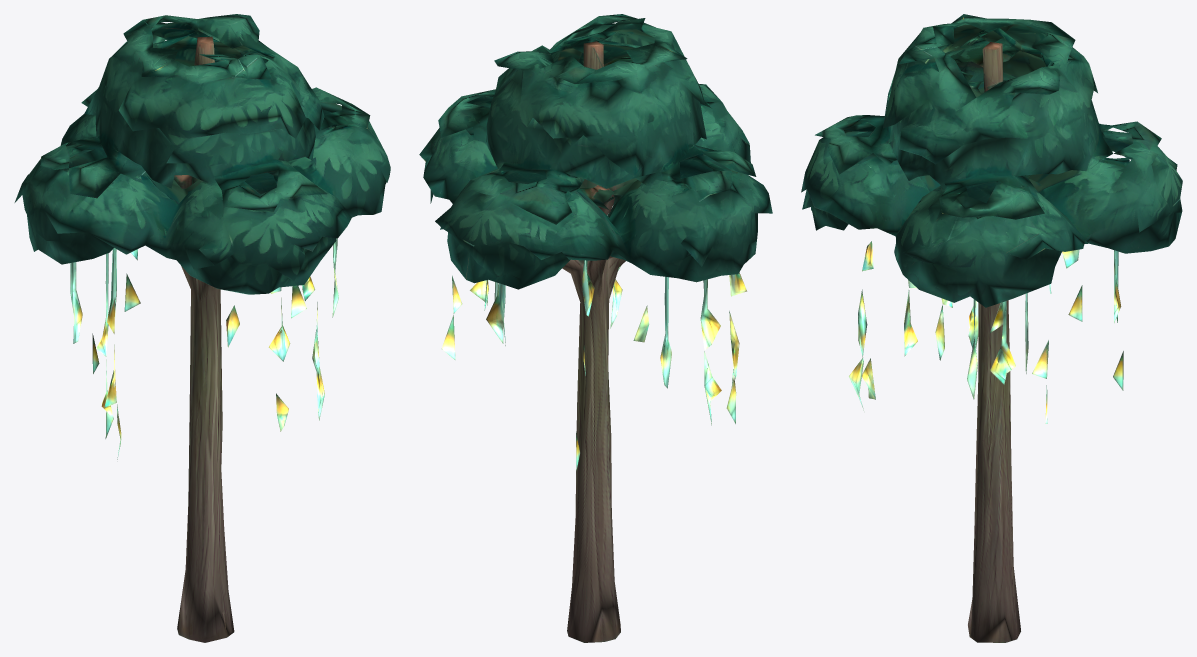
The picture shows the model from 3 angles, left to right: view 1: azimuth 30°, elevation 25°; view 2: azimuth 150°, elevation 25°; view 3: azimuth 270°, elevation 25°; orthographic projection.
Visible parts, largest first — view 1: Mesh_0; view 2: Mesh_0; view 3: Mesh_0.
Part boxes in pixels (bbox=[...]): Mesh_0: bbox=[14, 14, 390, 642]; Mesh_0: bbox=[419, 14, 772, 642]; Mesh_0: bbox=[801, 14, 1182, 642].
Size of the model in its own units: 1.08 by 1.9 by 1.1.
Materials: 1 (1 with a texture image).
